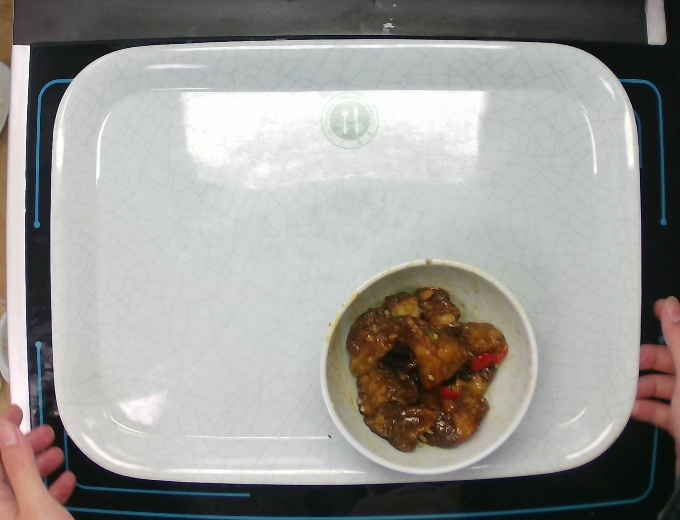JYsf-Fan_Wan: (309, 251, 542, 479)
